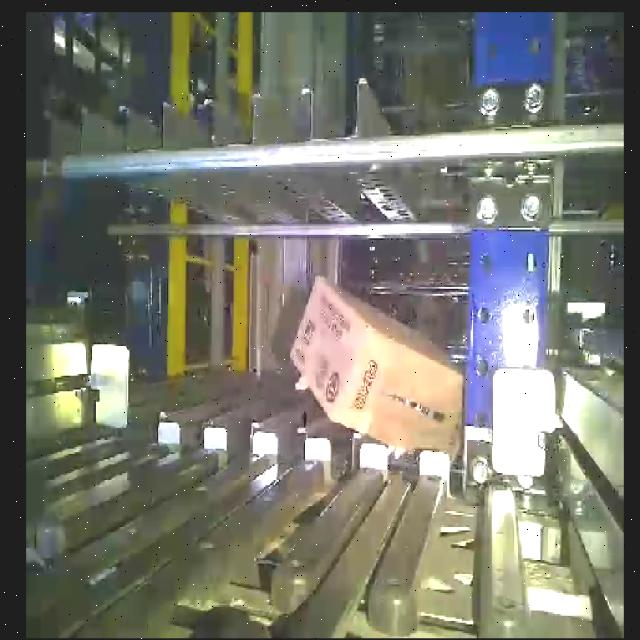box: (325, 325, 494, 474)
